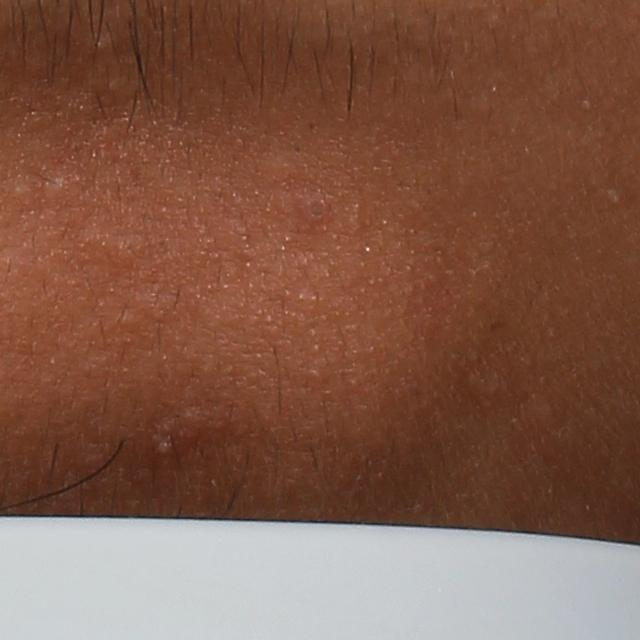comedo: (43, 173, 70, 206)
